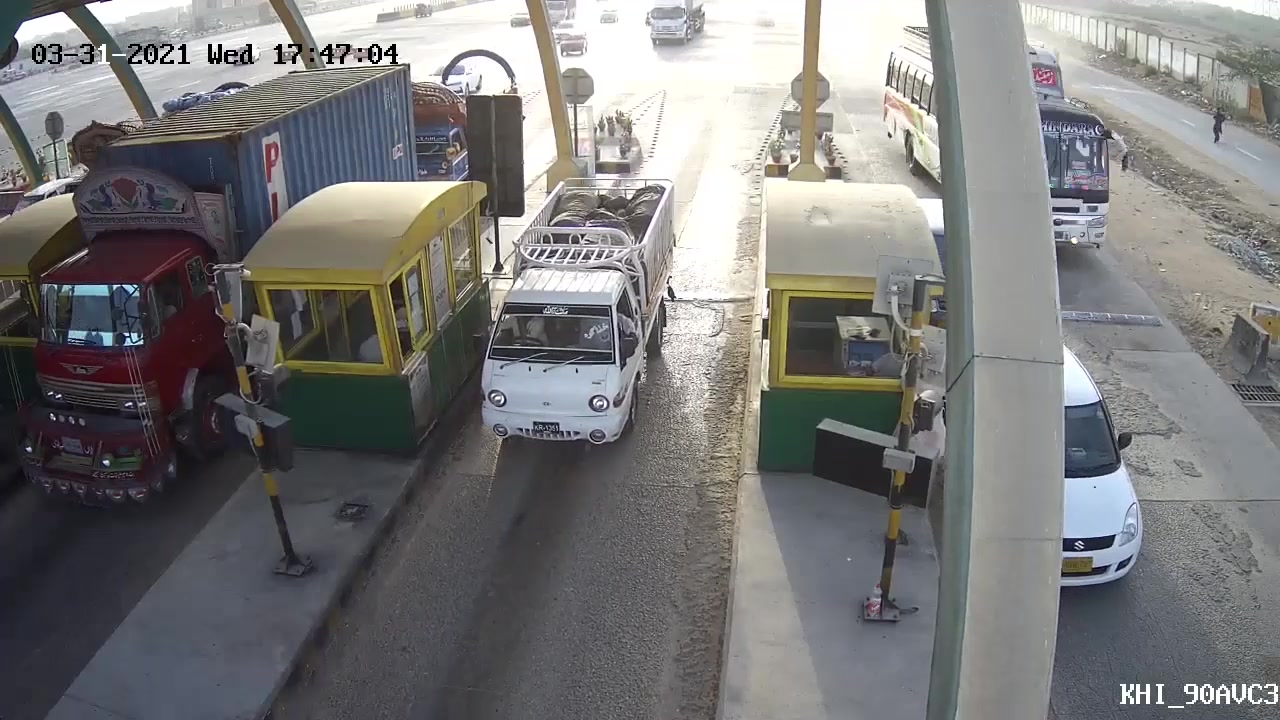F2: (471, 169, 684, 459)
